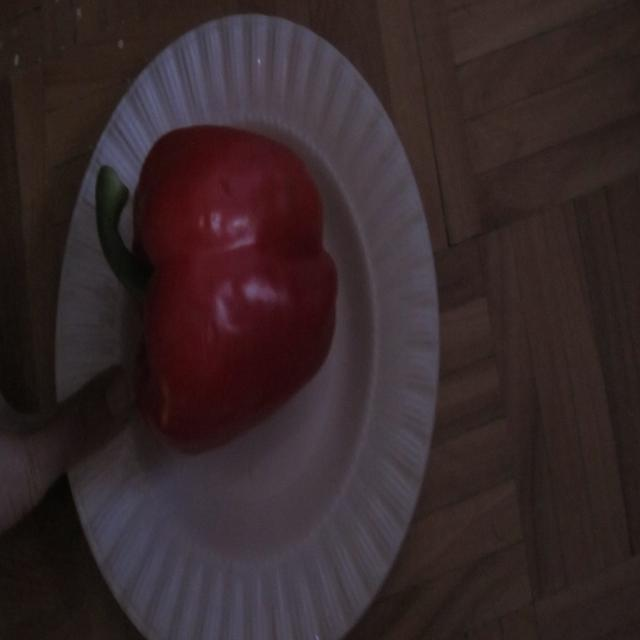Pepper: (94, 122, 339, 454)
